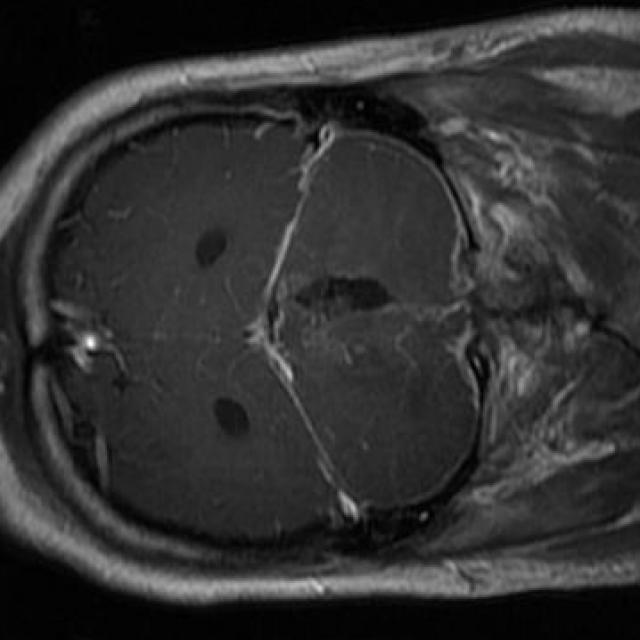glioma: (271, 276, 390, 365)
